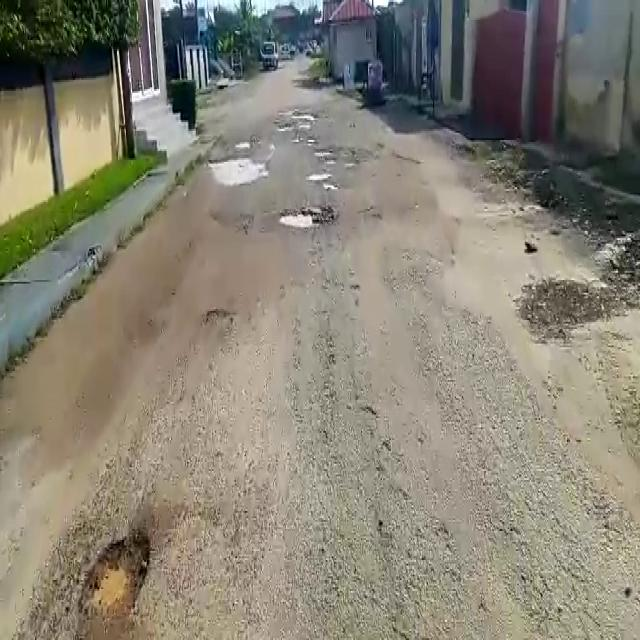Pothole: (84, 531, 154, 626), (210, 152, 266, 183), (278, 205, 328, 228), (314, 145, 350, 159), (306, 174, 334, 184)
